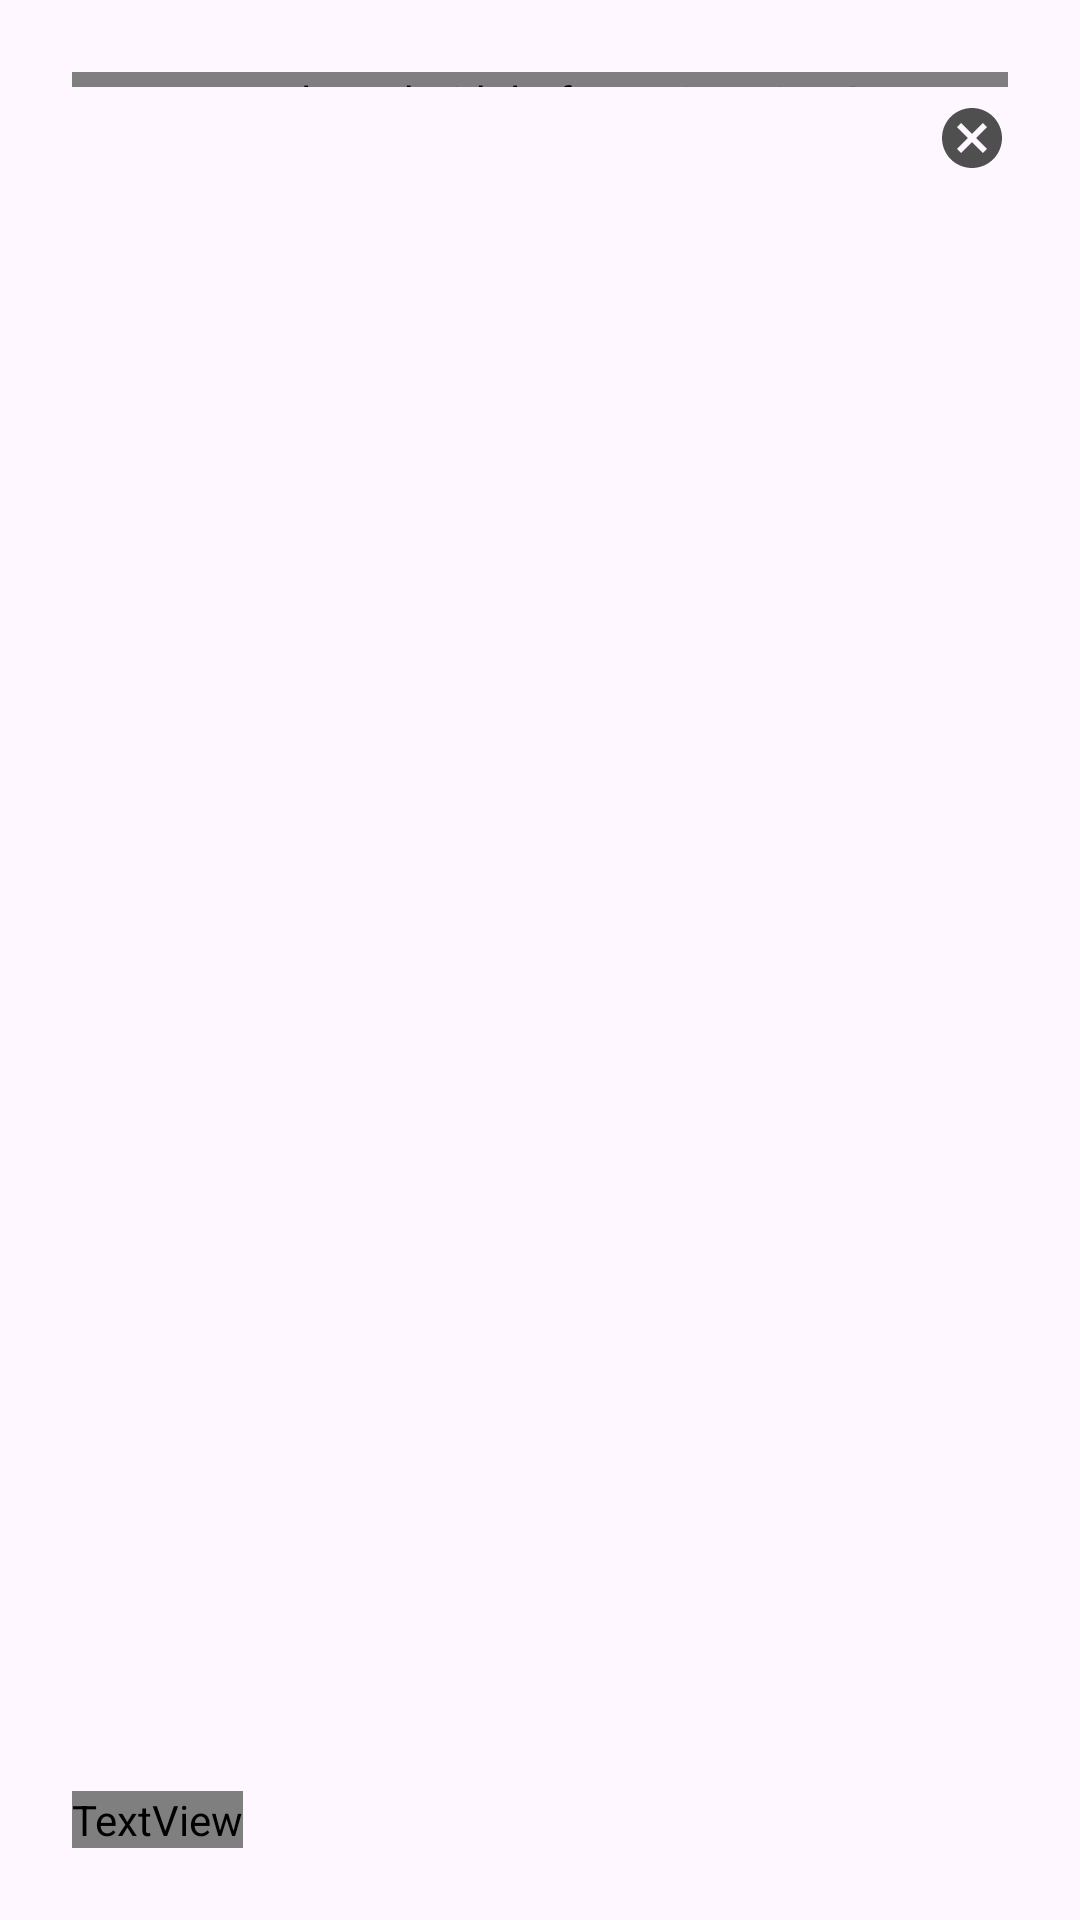

Icons on this 1080w x 1920h Android screen, each with the point to tap as (x=x, y=y):
cancel: (x=972, y=138)
